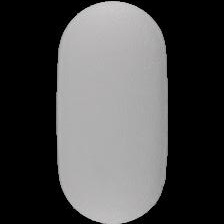63629-2887: (0, 0, 224, 224)
